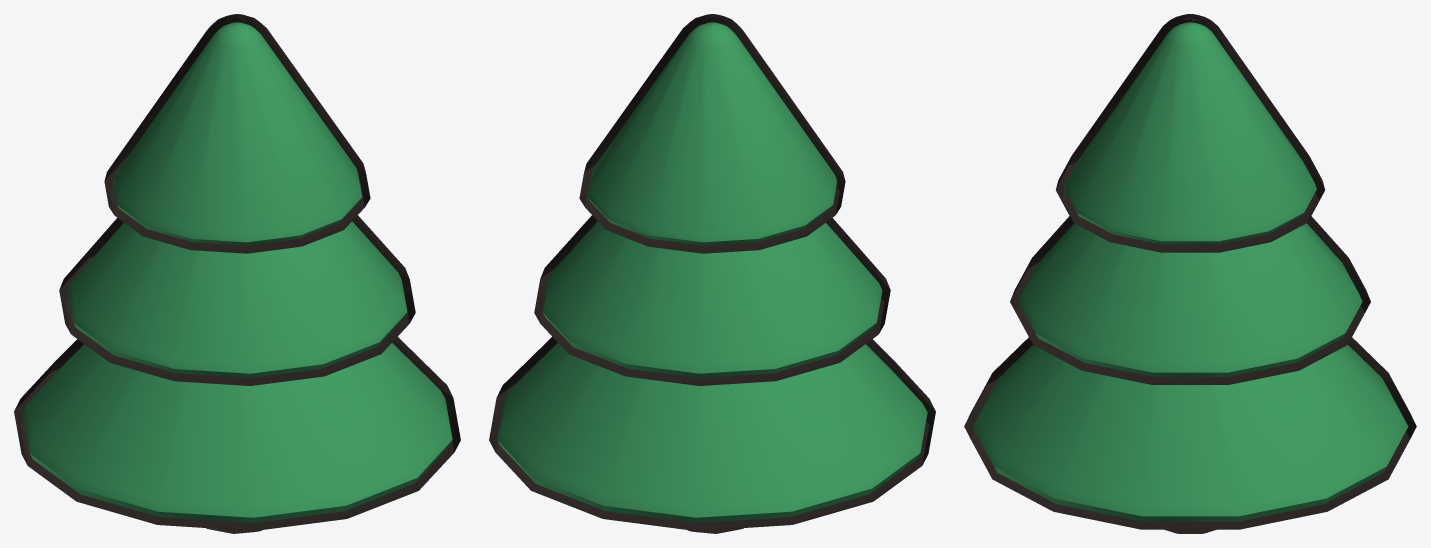
File: Tree_Pine.fbx
3 views of the same model, side by side, from view 1: azimuth 30°, elevation 25°; view 2: azimuth 150°, elevation 25°; view 3: azimuth 270°, elevation 25° (orthographic).
Parts seen in each view (by area): view 1: PR_Tree_Pine_Pine, PR_Tree_Pine_Outline; view 2: PR_Tree_Pine_Pine, PR_Tree_Pine_Outline; view 3: PR_Tree_Pine_Pine, PR_Tree_Pine_Outline.
Part boxes in pixels (x1,y1,x2,y2): PR_Tree_Pine_Pine: [22, 22, 452, 522]; PR_Tree_Pine_Outline: [14, 14, 460, 533]; PR_Tree_Pine_Pine: [497, 22, 927, 522]; PR_Tree_Pine_Outline: [489, 14, 935, 533]; PR_Tree_Pine_Pine: [972, 22, 1408, 521]; PR_Tree_Pine_Outline: [964, 14, 1416, 533].
Bounding box in the file's own units: 3.16 × 3.97 × 3.24.
